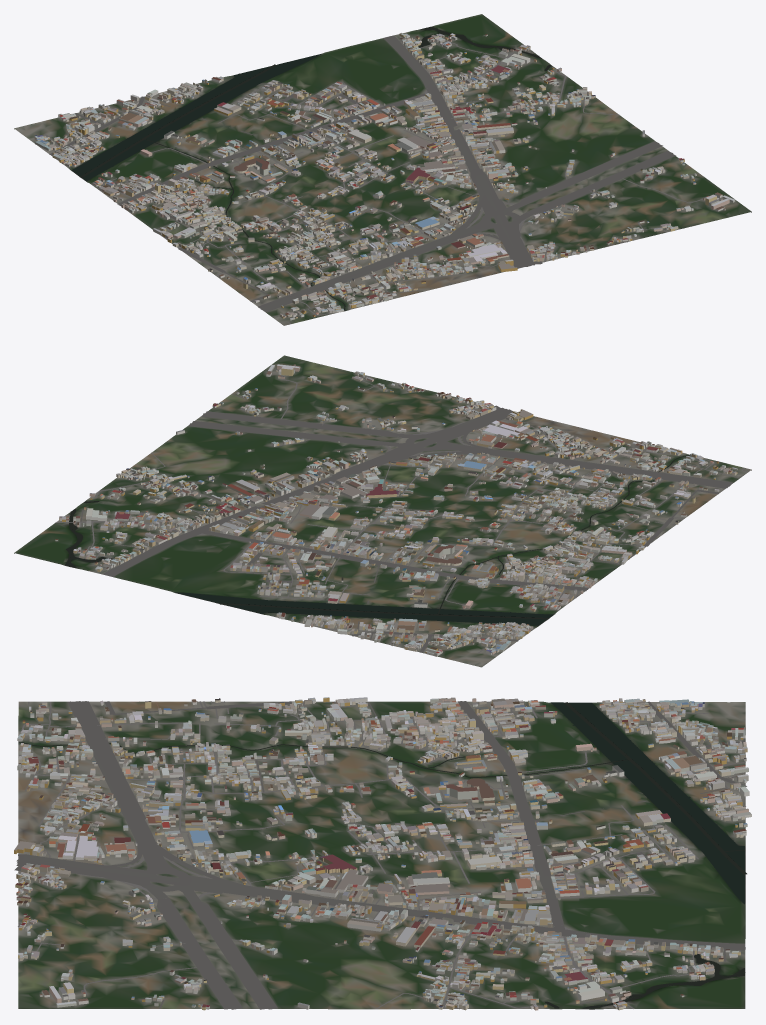
3 renders of one model, top to bottom at view 1: azimuth 30°, elevation 25°; view 2: azimuth 150°, elevation 25°; view 3: azimuth 270°, elevation 25°, orthographic. The views are drawn at different scales.
Parts seen in each view (by area): view 1: ground, buildings, roads, water; view 2: ground, buildings, roads, water; view 3: ground, buildings, roads, water.
Boxes of the visible parts, x1,y1,x2,y2 form: ground: [14, 14, 751, 325]; buildings: [34, 33, 735, 320]; roads: [45, 35, 702, 324]; water: [72, 26, 551, 310]; ground: [14, 355, 751, 667]; buildings: [55, 364, 737, 656]; roads: [55, 376, 747, 653]; water: [65, 454, 690, 625]; ground: [18, 701, 745, 1009]; buildings: [14, 697, 751, 1010]; roads: [14, 701, 746, 1009]; water: [18, 702, 746, 1009].
Bounding box in the file's own units: 1411 × 25.82 × 1421.
